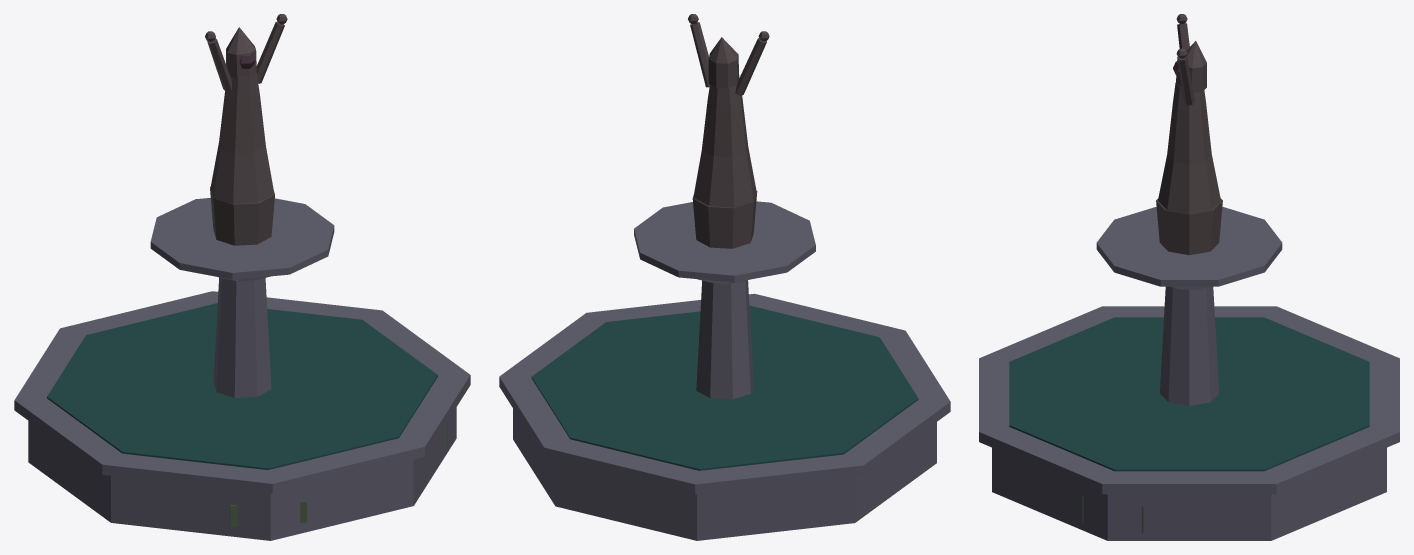
The model's file is fantana.glb.
3 renders of one model, left to right at view 1: azimuth 30°, elevation 25°; view 2: azimuth 150°, elevation 25°; view 3: azimuth 270°, elevation 25°, orthographic.
Visible parts, largest first — view 1: Fantana; view 2: Fantana; view 3: Fantana.
Part boxes in pixels (x1,y1,x2,y2): Fantana: [14, 14, 470, 540]; Fantana: [499, 14, 950, 540]; Fantana: [979, 14, 1399, 540].
Size of the model in its own units: 4.53 by 5.06 by 4.53.
